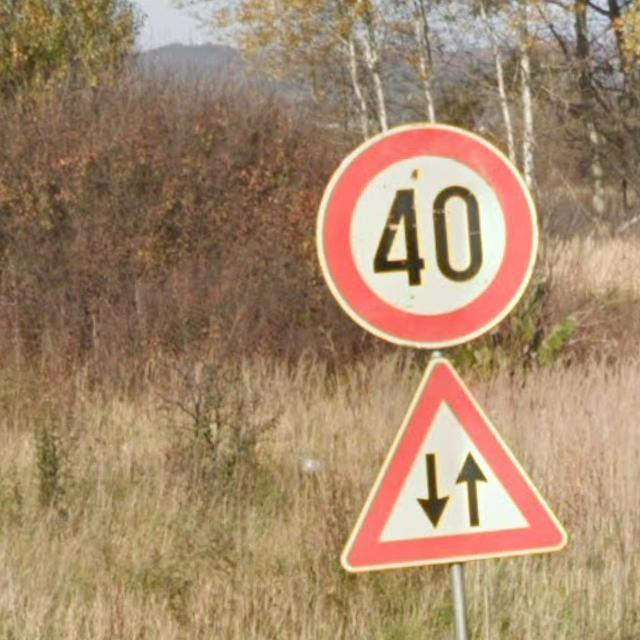forb_speed_over_40: (312, 118, 545, 348)
